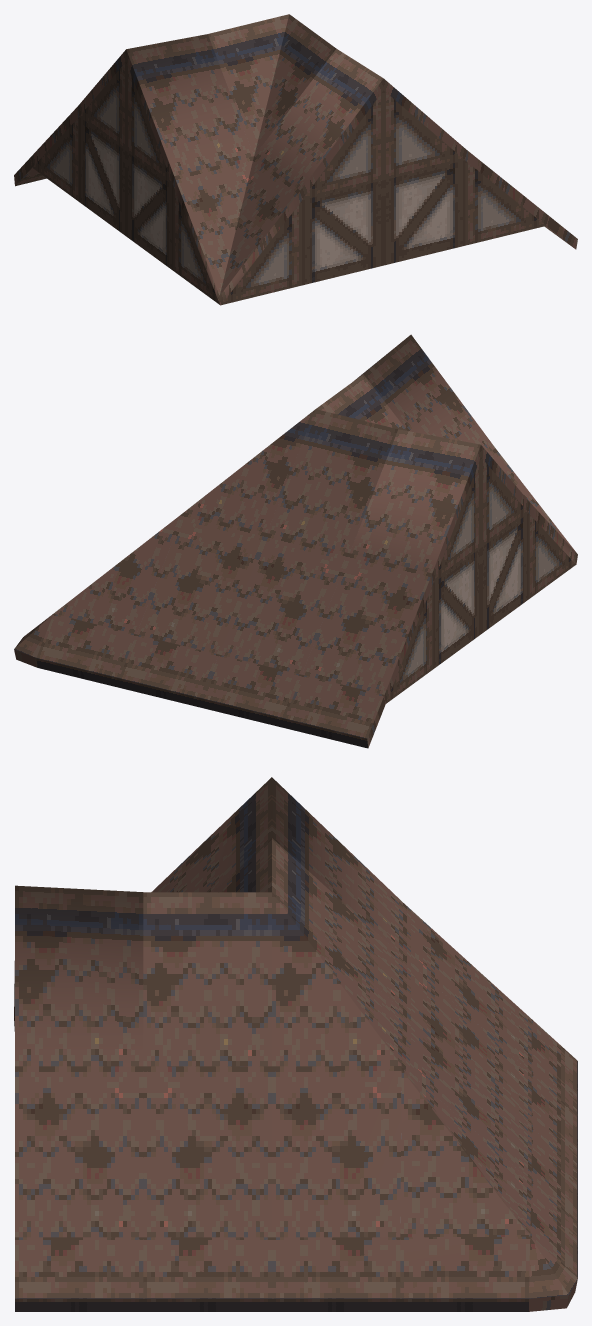
File: roof_red_corner.glb
The picture shows the model from 3 angles, top to bottom: view 1: azimuth 30°, elevation 25°; view 2: azimuth 150°, elevation 25°; view 3: azimuth 270°, elevation 25°; orthographic projection. The views are drawn at different scales.
Visible parts, largest first — view 1: roof_red_corner; view 2: roof_red_corner; view 3: roof_red_corner.
Part boxes in pixels (x1,y1,x2,y2): roof_red_corner: (14,14,577,305); roof_red_corner: (14,334,577,748); roof_red_corner: (14,777,577,1311).
Size of the model in its own units: 5.5 by 3.2 by 5.49.
Materials: 1 (1 with a texture image).
